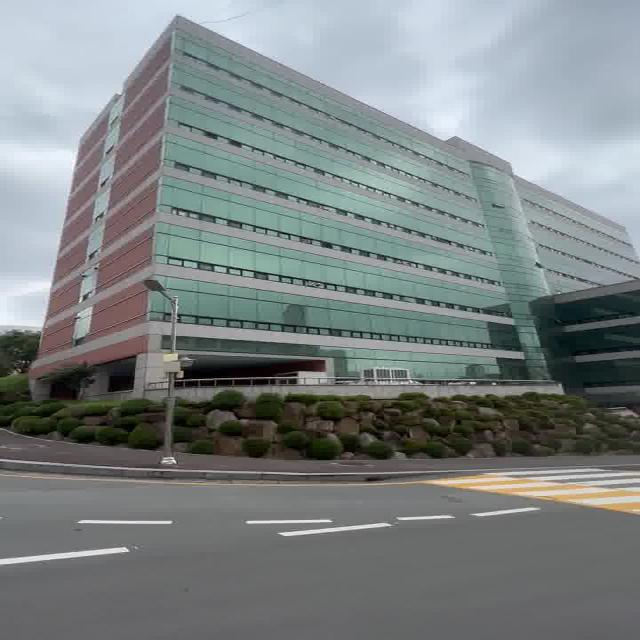building: (77, 55, 551, 392)
